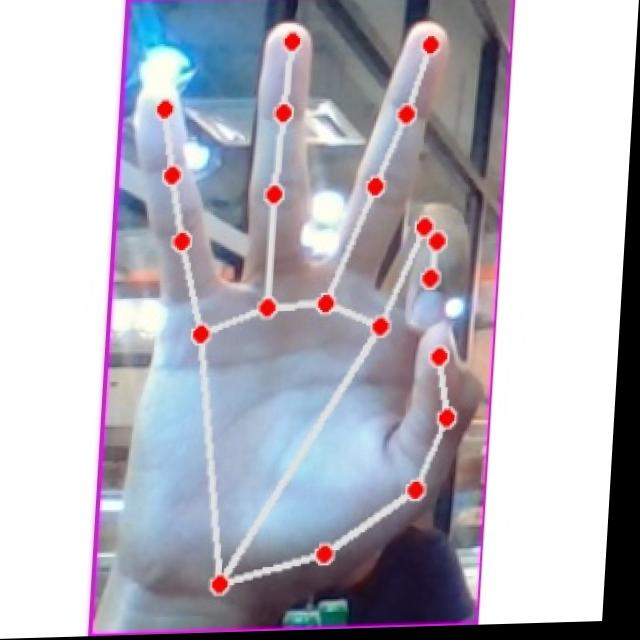F: (112, 10, 512, 613)
